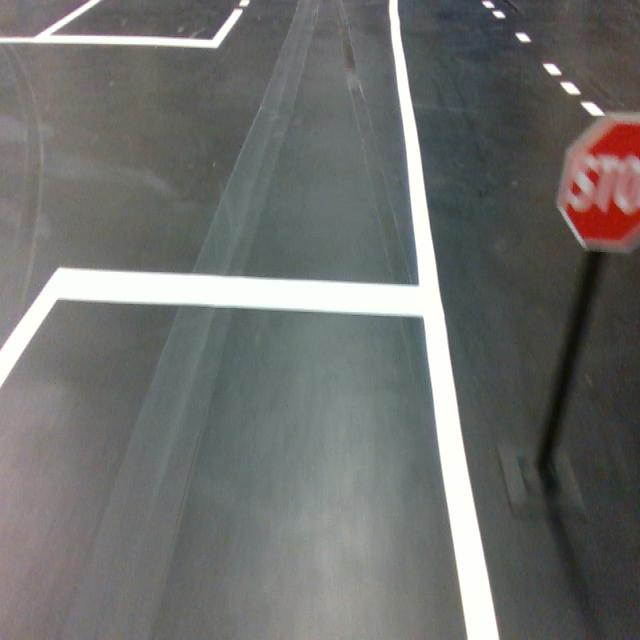stop-sign: (555, 112, 640, 256)
